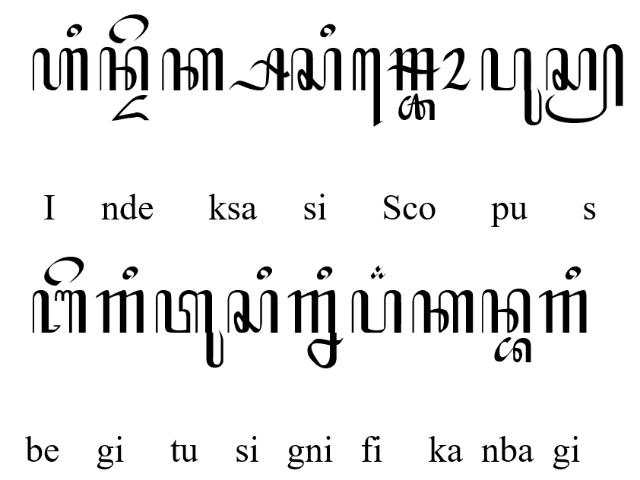-s: (544, 42, 624, 124)
S: (386, 46, 442, 92)
_b: (493, 336, 532, 364)
_c: (397, 93, 435, 121)
_d: (111, 94, 151, 122)
_s: (227, 46, 289, 92)
alt: (371, 264, 387, 280)
b: (32, 289, 86, 335)
e: (108, 13, 150, 44), (44, 256, 84, 286)
e1: (352, 46, 382, 126)
g: (96, 290, 146, 334), (538, 290, 588, 334)
gn: (288, 290, 344, 370)
h: (31, 46, 89, 92)
i: (318, 22, 336, 38), (255, 265, 273, 281), (317, 265, 333, 281), (566, 265, 582, 281), (122, 266, 138, 280), (66, 24, 82, 36)
k: (162, 46, 224, 92), (413, 290, 475, 334)
n: (99, 46, 149, 92), (481, 288, 531, 334)
o: (442, 48, 472, 92)
p: (352, 290, 402, 336)
pu: (480, 46, 542, 126)
s: (227, 290, 280, 334), (292, 46, 342, 92)
tu: (154, 289, 226, 369)
